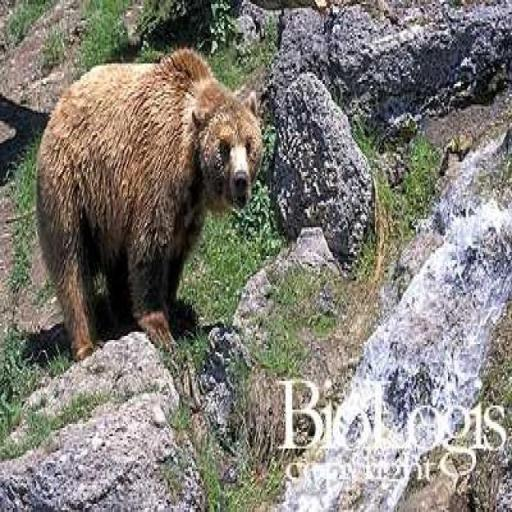Bear: (34, 45, 264, 362)
